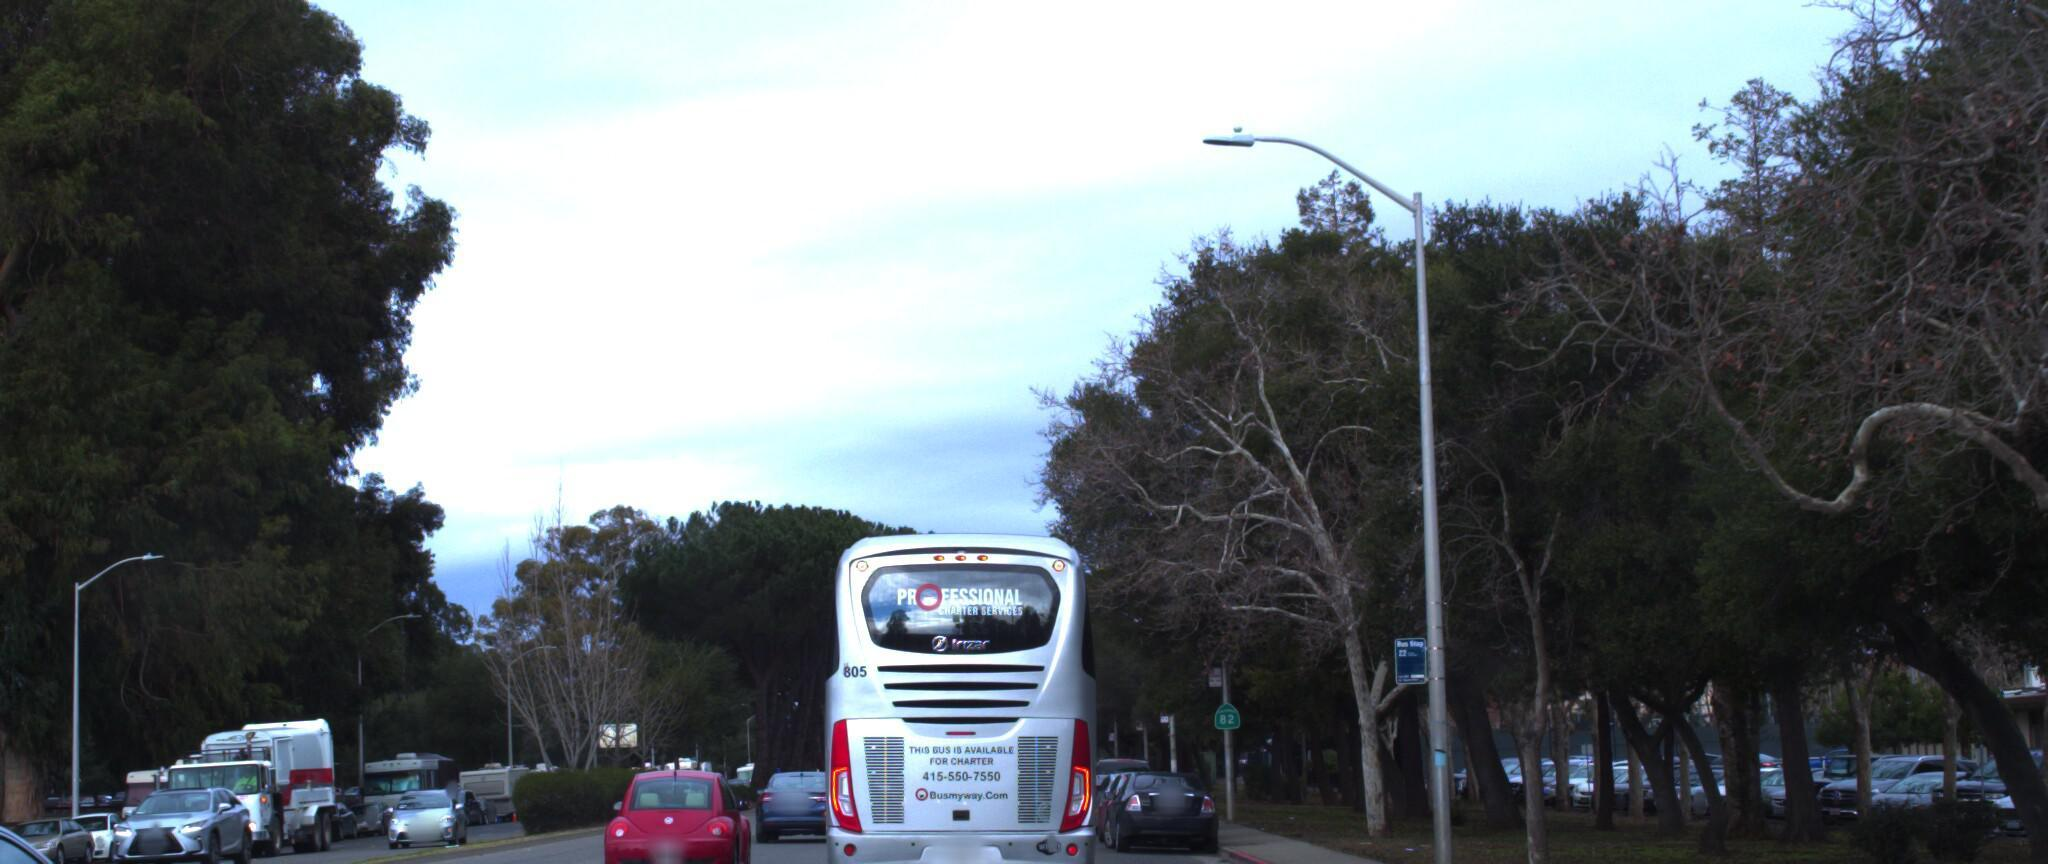bus: (795, 516, 1134, 864)
car: (0, 771, 296, 864), (598, 760, 765, 864), (103, 765, 257, 864), (1095, 750, 1219, 844), (748, 754, 852, 831), (381, 771, 473, 839), (0, 804, 102, 864)
truck: (158, 696, 367, 857)
